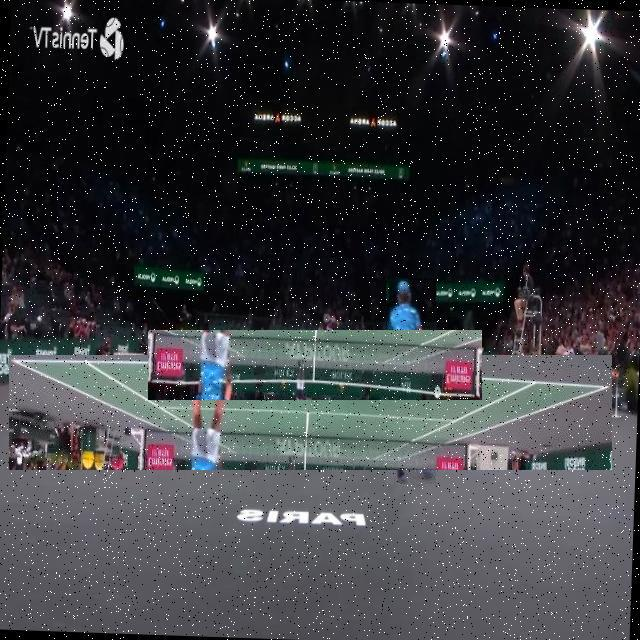court: (9, 356, 612, 472)
net: (148, 330, 482, 400)
player: (386, 278, 436, 484)
